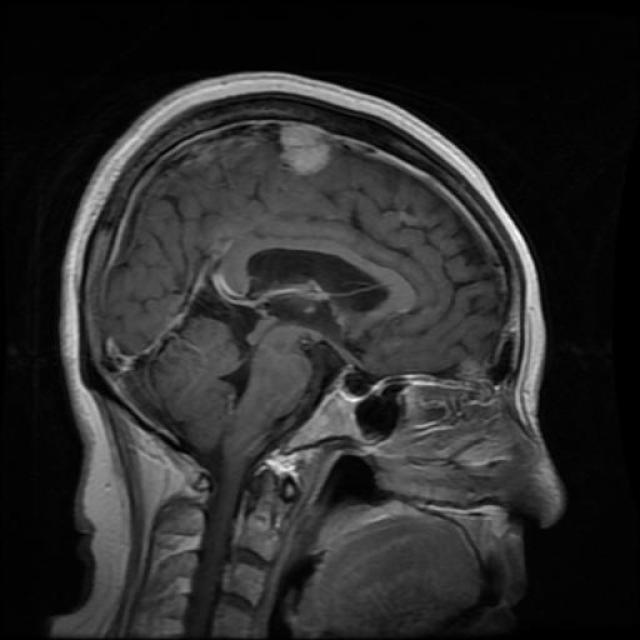meningioma: (280, 125, 331, 178)
